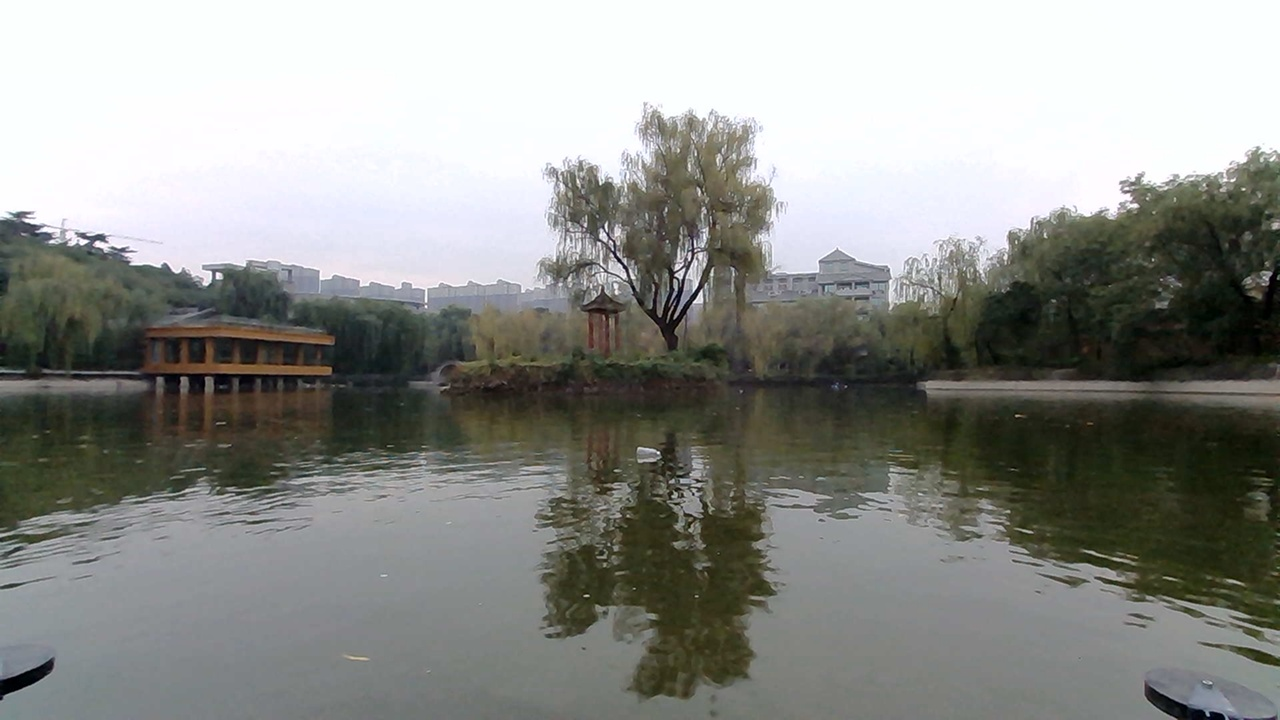bottle: (618, 433, 682, 466)
